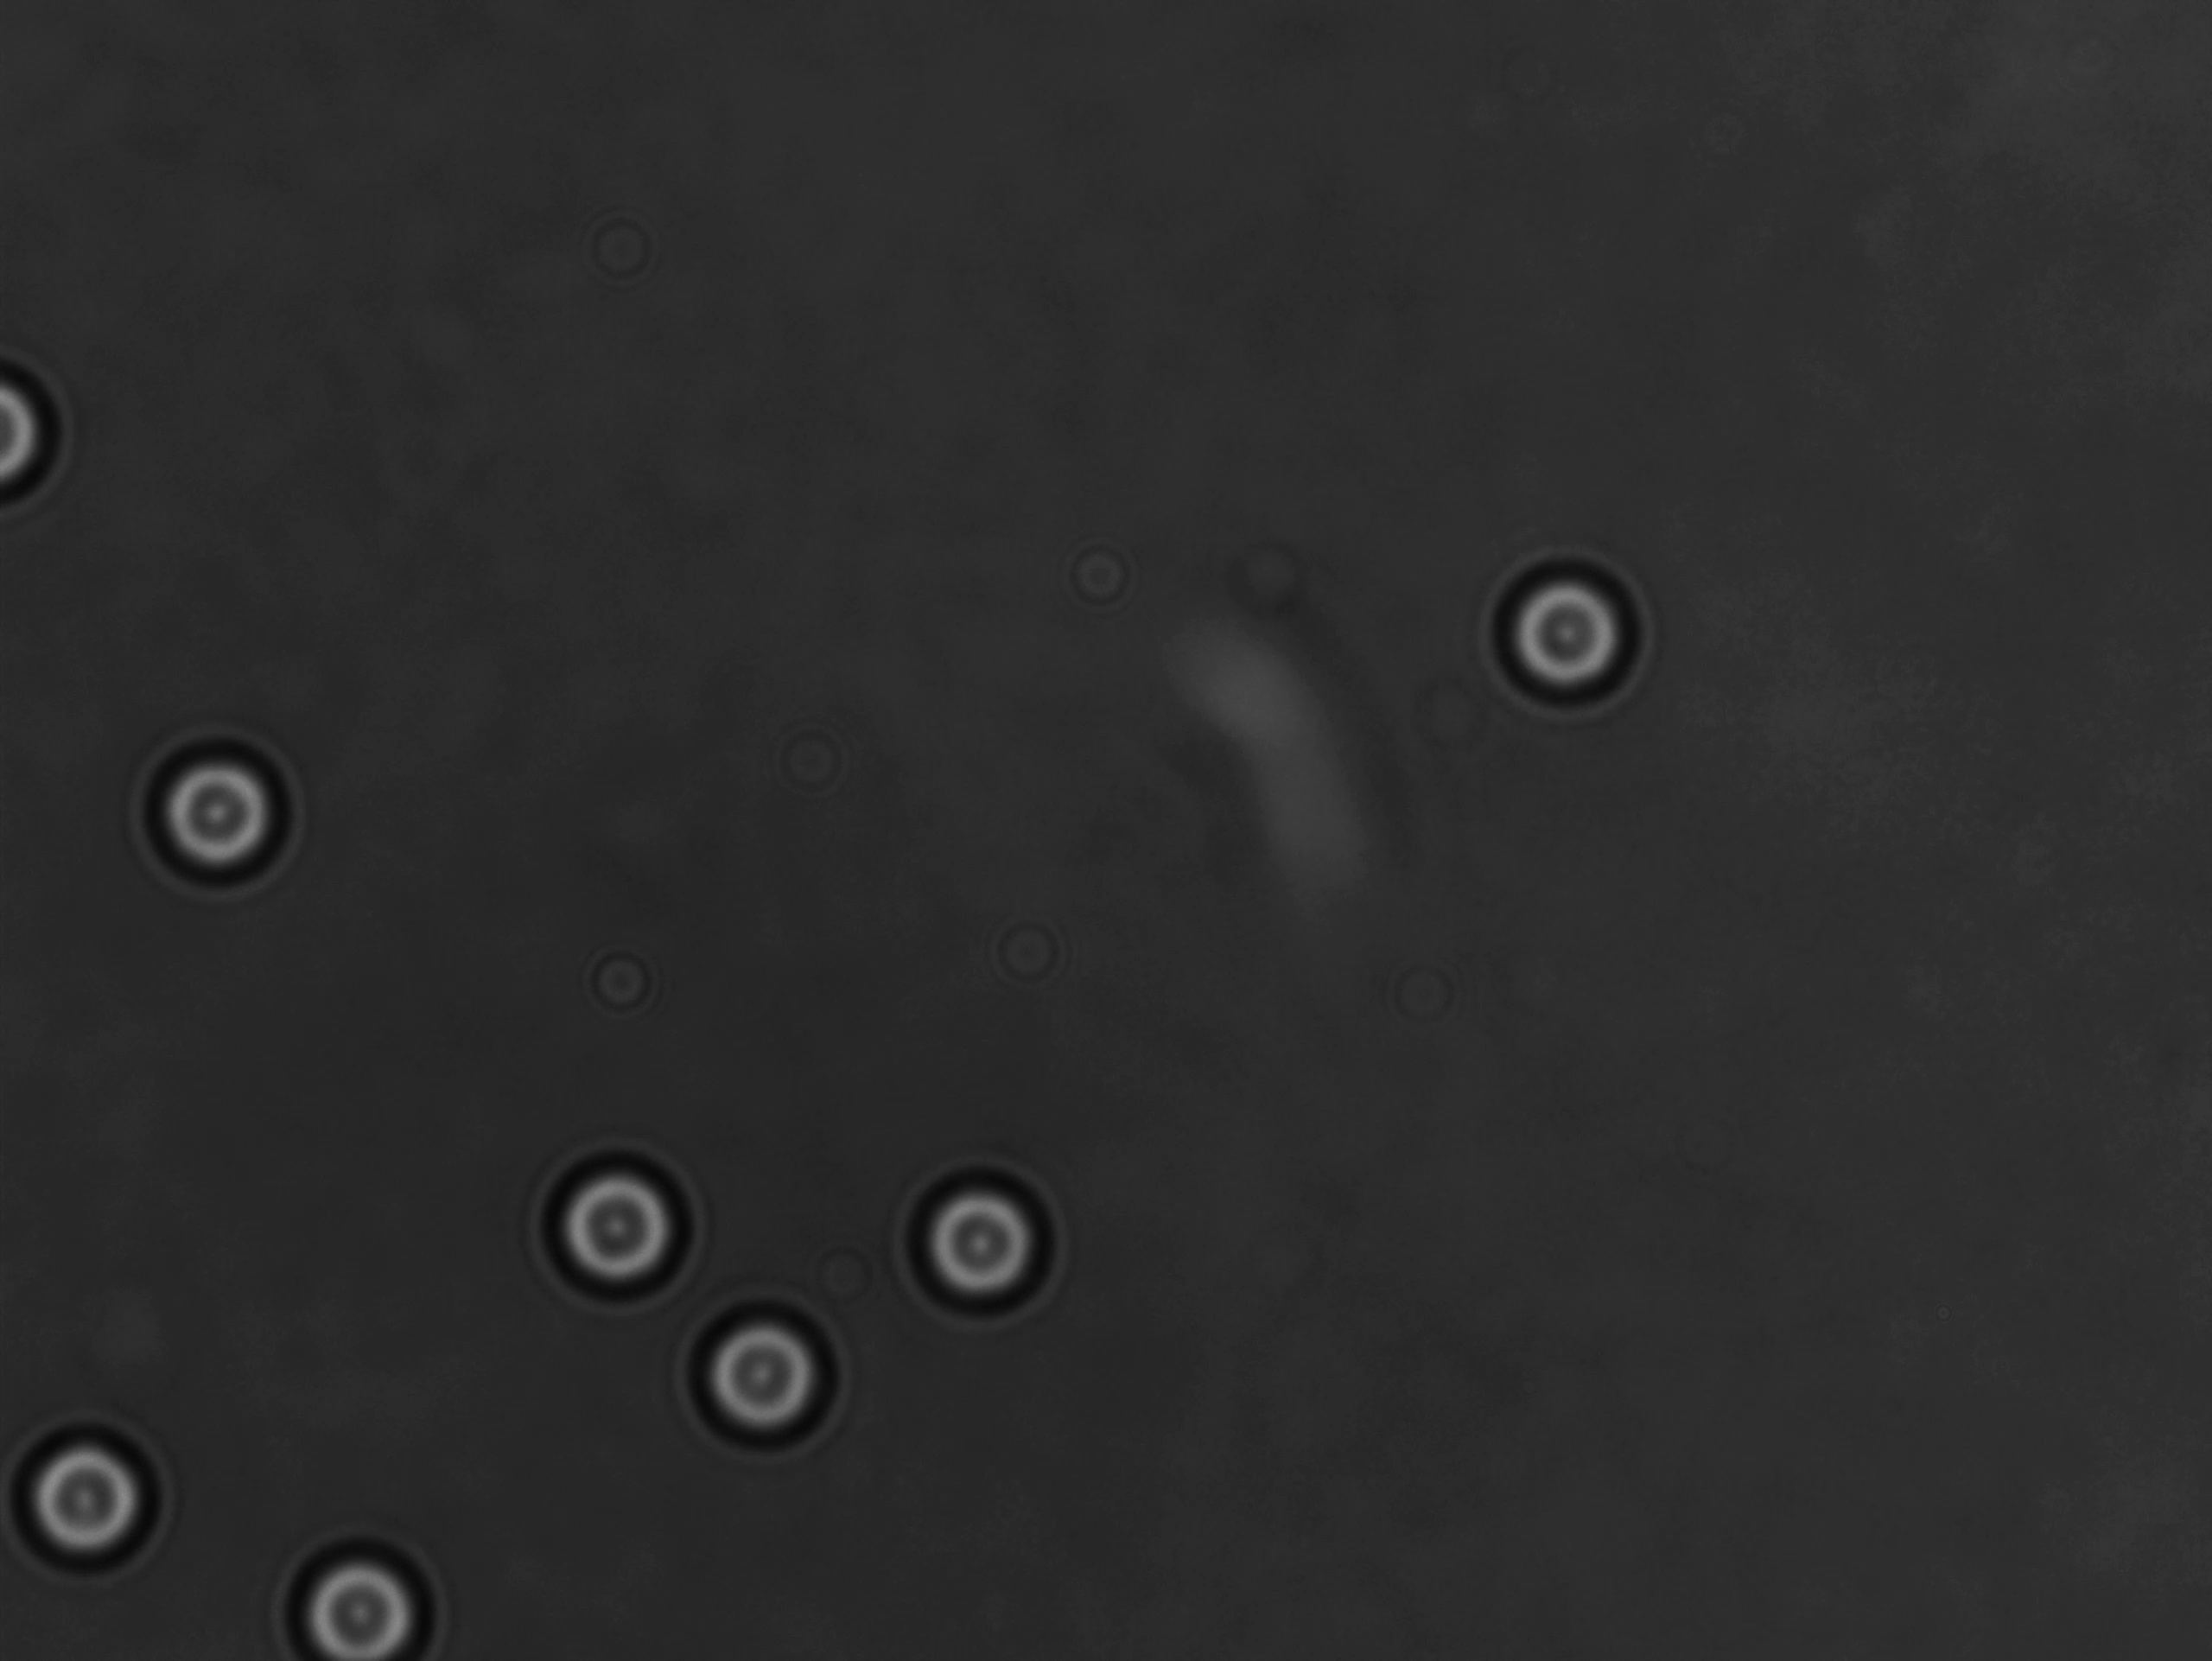depth:40: (642, 1288, 870, 1460), (893, 1165, 1085, 1335), (529, 1124, 701, 1309), (136, 721, 317, 892), (1490, 541, 1649, 722), (256, 1518, 457, 1661)
